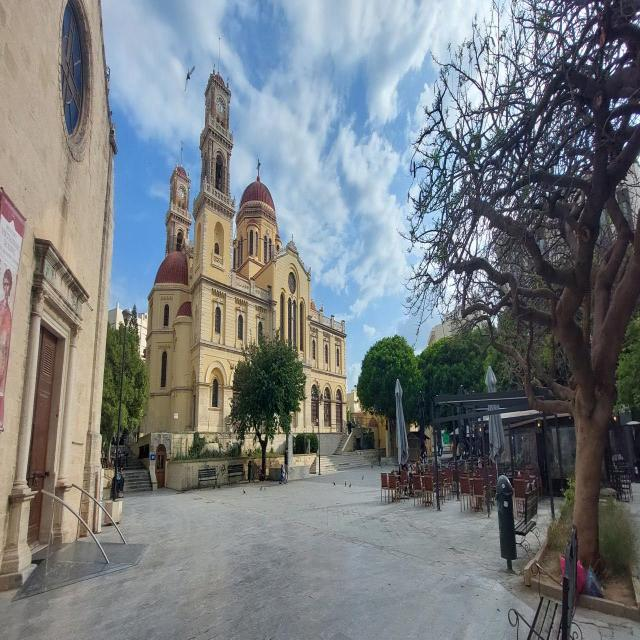Agios Minas: (136, 47, 350, 486)
